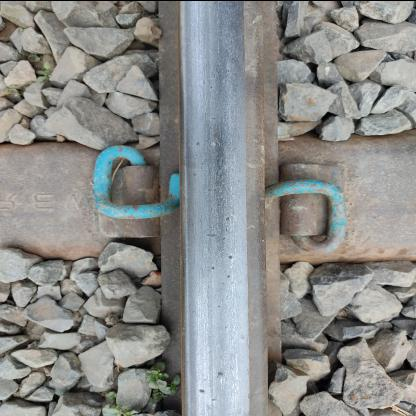Non Defective: (61, 143, 372, 301)
